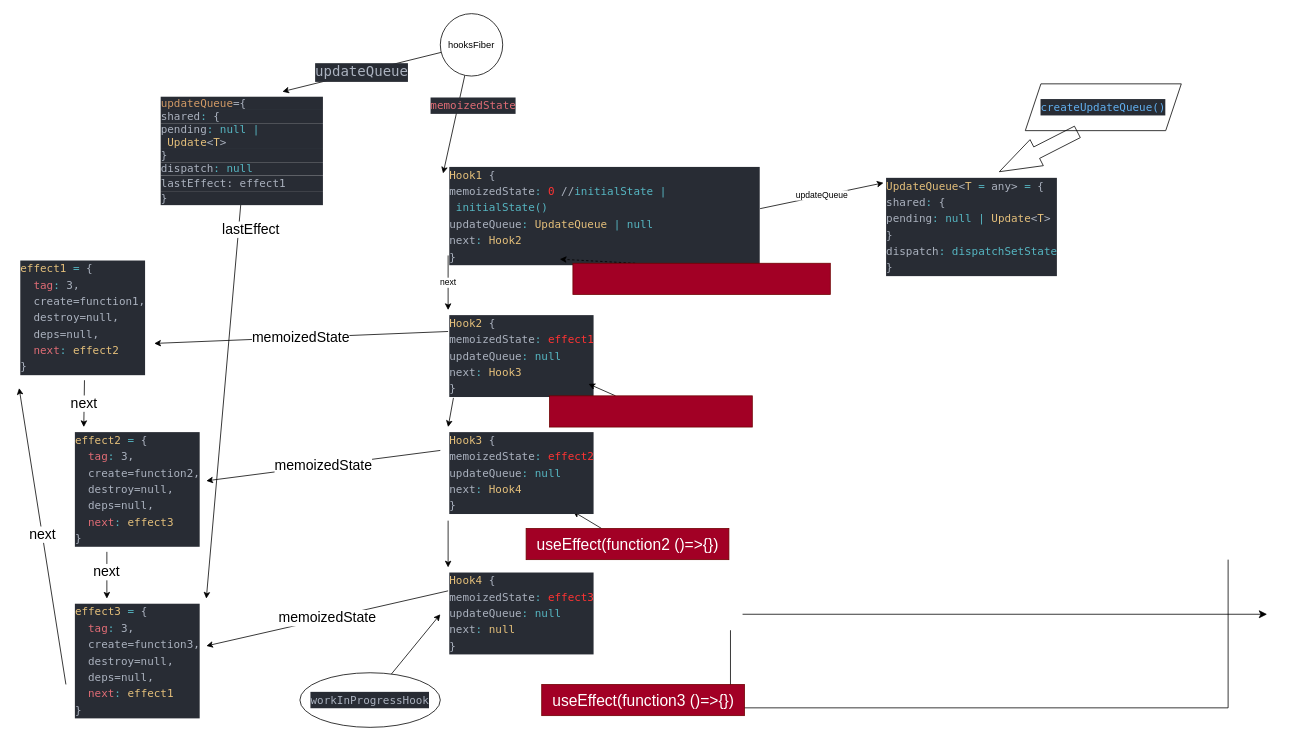
Some shapes in this 1289 by 741 pixel diagram are drawn without their labels. Each missing label, with the centre of its shape:
"const [num, setNum] = useState(0)" goes at point (701, 278).
"useEffect(function1 ()=>{})" goes at point (650, 411).
